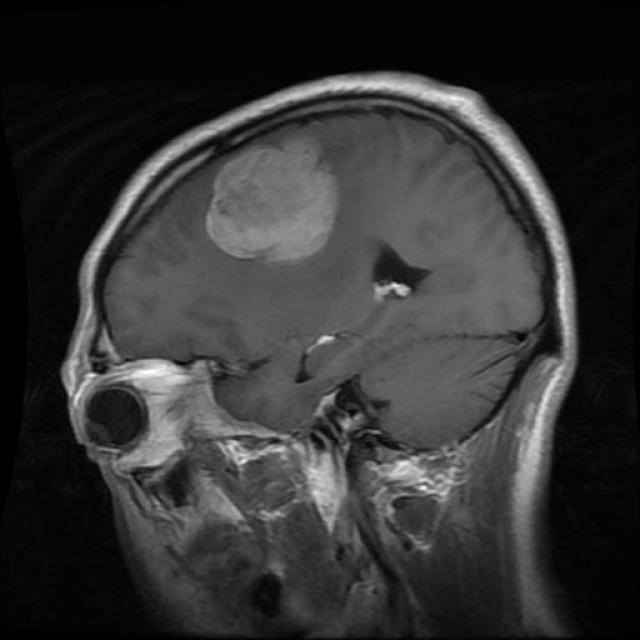meningioma: (208, 151, 339, 261)
